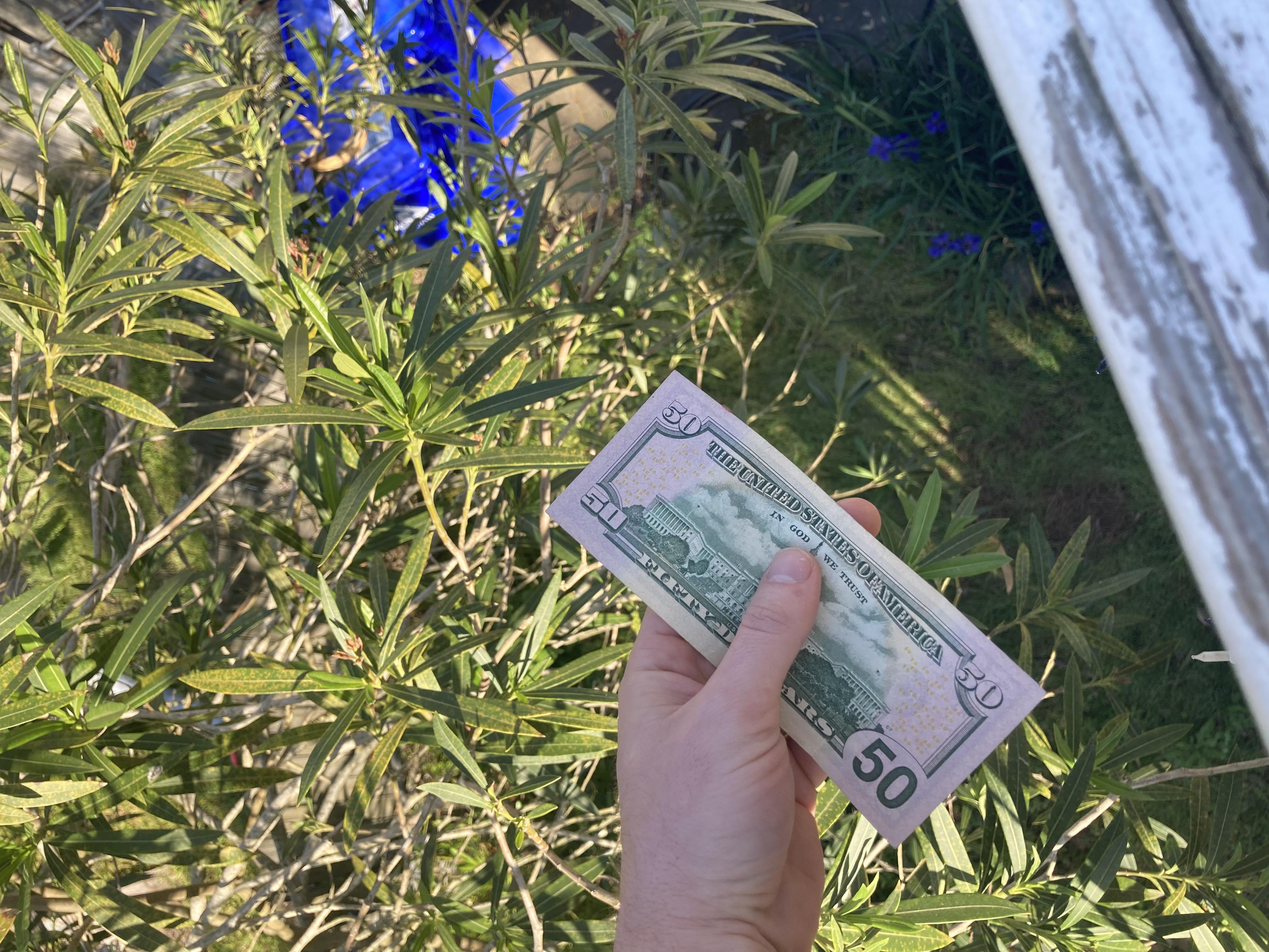fifty-back: (144, 408, 777, 786)
